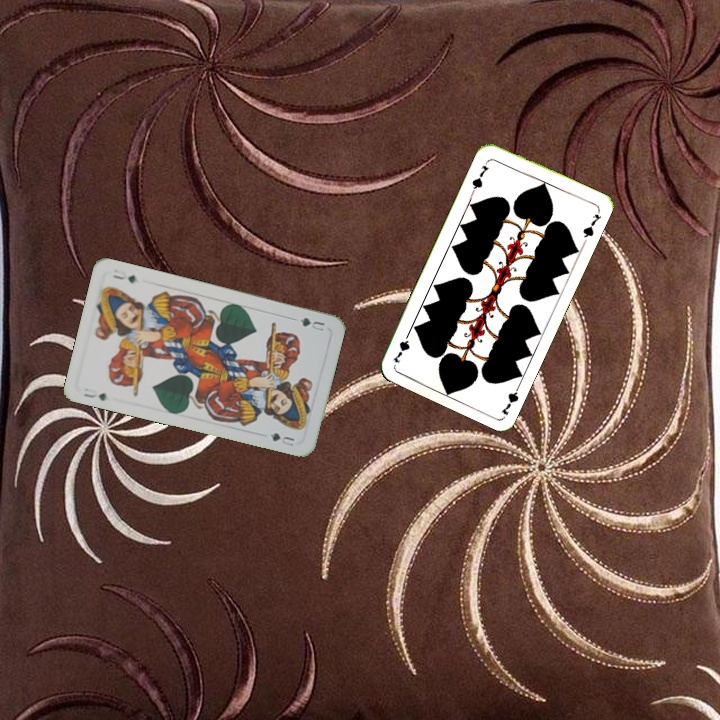G7: (497, 379, 524, 417), (468, 156, 492, 194)
GU: (295, 313, 327, 334), (80, 384, 109, 404)
